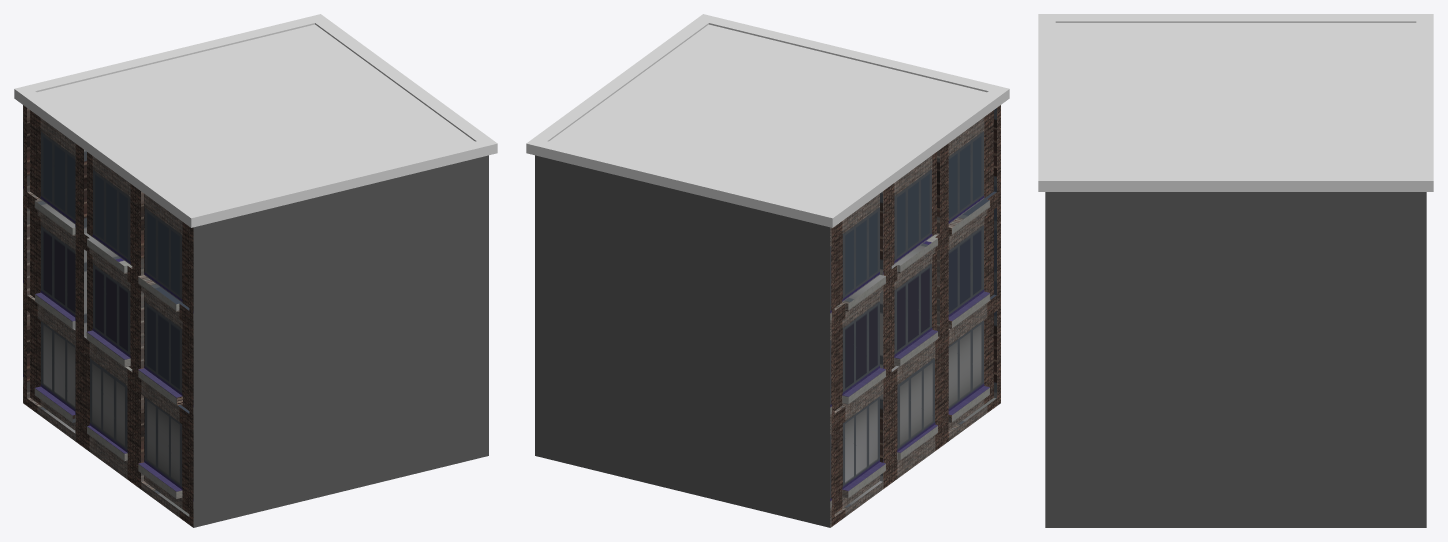
Rendered from Building1.fbx.
3 renders of one model, left to right at view 1: azimuth 30°, elevation 25°; view 2: azimuth 150°, elevation 25°; view 3: azimuth 270°, elevation 25°, orthographic. The views are drawn at different scales.
Parts seen in each view (by area): view 1: Cube, Cube.001; view 2: Cube, Cube.001; view 3: Cube, Cube.001.
Part boxes in pixels (<box>): Cube: <box>23,105,488,527</box>; Cube.001: <box>14,14,497,227</box>; Cube: <box>535,105,1000,527</box>; Cube.001: <box>526,14,1009,227</box>; Cube: <box>1045,192,1426,527</box>; Cube.001: <box>1038,14,1433,191</box>.
Size of the model in its own units: 2074 by 2025 by 2074.
2 materials, 1 textured.
